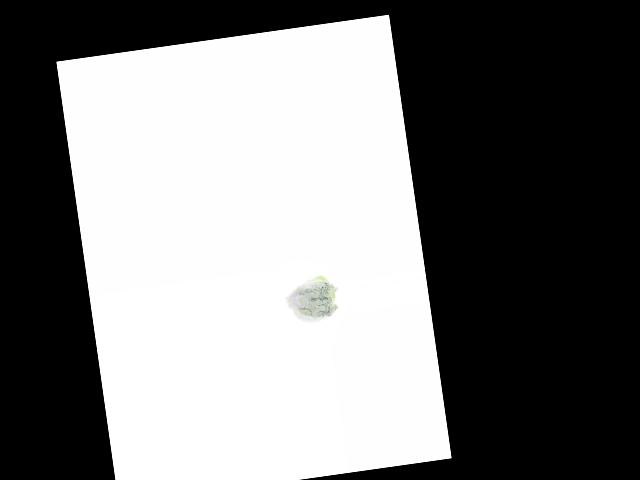lettuce: (283, 271, 341, 327)
